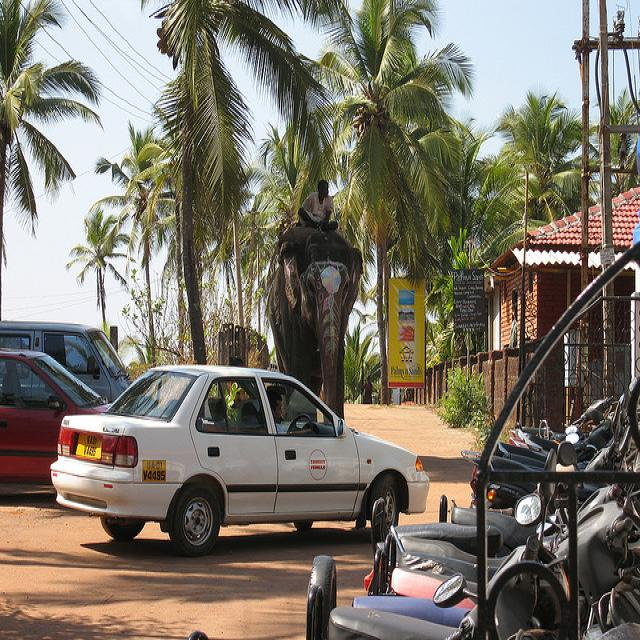motor: (305, 498, 640, 633), (364, 545, 576, 628), (439, 492, 540, 558), (509, 397, 619, 452), (462, 444, 548, 509), (391, 523, 479, 585), (580, 393, 635, 476), (349, 590, 476, 623), (392, 523, 500, 557), (555, 392, 615, 442), (508, 422, 564, 442)
